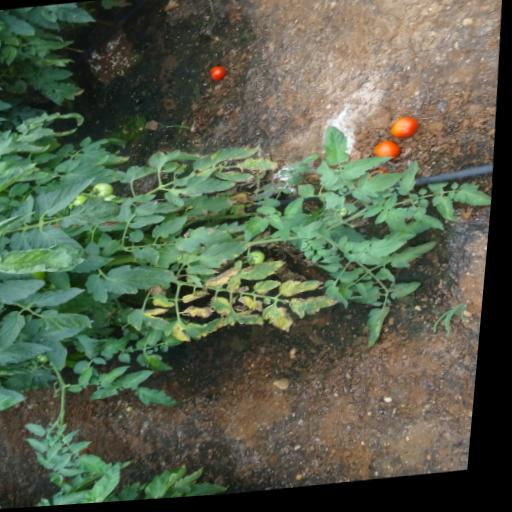Early Blight: (232, 261, 293, 292), (177, 226, 238, 257), (170, 317, 234, 346), (202, 241, 257, 272), (131, 306, 178, 336), (295, 297, 347, 323), (191, 194, 245, 219), (265, 306, 302, 339), (285, 281, 331, 301), (213, 146, 264, 164), (233, 309, 272, 332), (237, 158, 282, 177), (209, 269, 247, 290), (136, 247, 166, 269), (187, 305, 224, 321), (187, 290, 217, 306), (259, 282, 288, 297), (156, 294, 183, 310)
Healthy: (34, 177, 99, 218), (0, 273, 52, 307), (357, 172, 410, 204), (26, 286, 93, 309), (343, 159, 399, 184), (397, 163, 424, 201), (373, 240, 413, 262), (287, 199, 309, 222)
Leaf_Miner: (141, 215, 158, 223)
